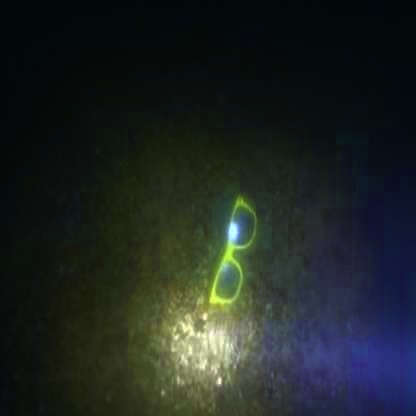sunglasses: (193, 169, 271, 328)
